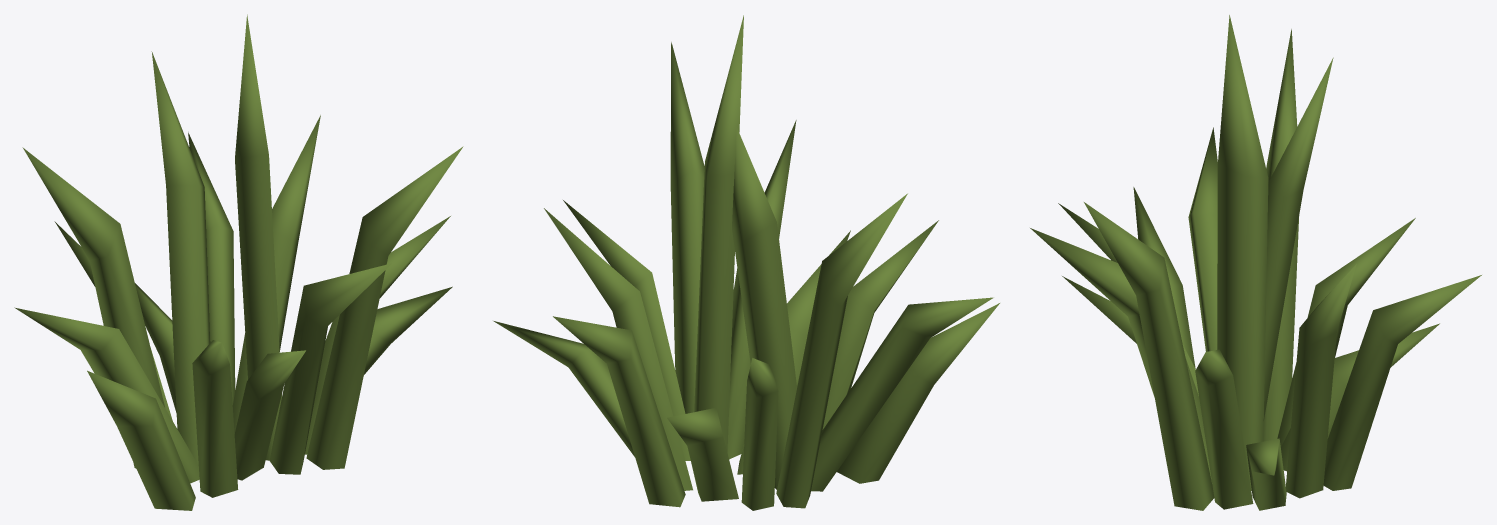
File: rpgpp_av_grass_small_01c.gltf
3 renders of one model, left to right at view 1: azimuth 30°, elevation 25°; view 2: azimuth 150°, elevation 25°; view 3: azimuth 270°, elevation 25°, orthographic.
Visible parts, largest first — view 1: rpgpp_av_grass_small_01c; view 2: rpgpp_av_grass_small_01c; view 3: rpgpp_av_grass_small_01c.
Part boxes in pixels (<box>): rpgpp_av_grass_small_01c: <box>14,14,463,510</box>; rpgpp_av_grass_small_01c: <box>493,15,999,510</box>; rpgpp_av_grass_small_01c: <box>1030,15,1481,510</box>.
Bounding box in the file's own units: 0.0127 × 0.0117 × 0.0105.
Materials: 1 (1 with a texture image).
